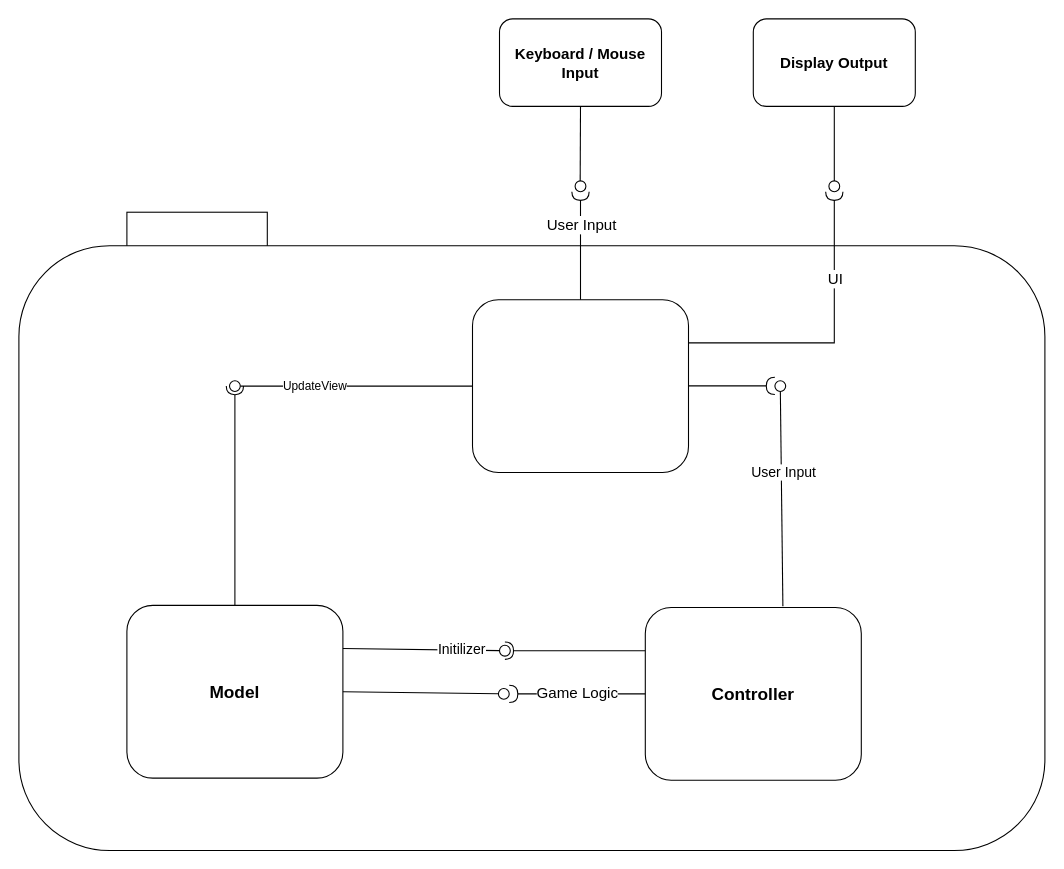
Some shapes in this 1064 by 869 pixel diagram are drawn without their labels. Each missing label, with the box of its shape:
Tron Application: (126, 211, 267, 255)
View: (471, 299, 688, 473)
